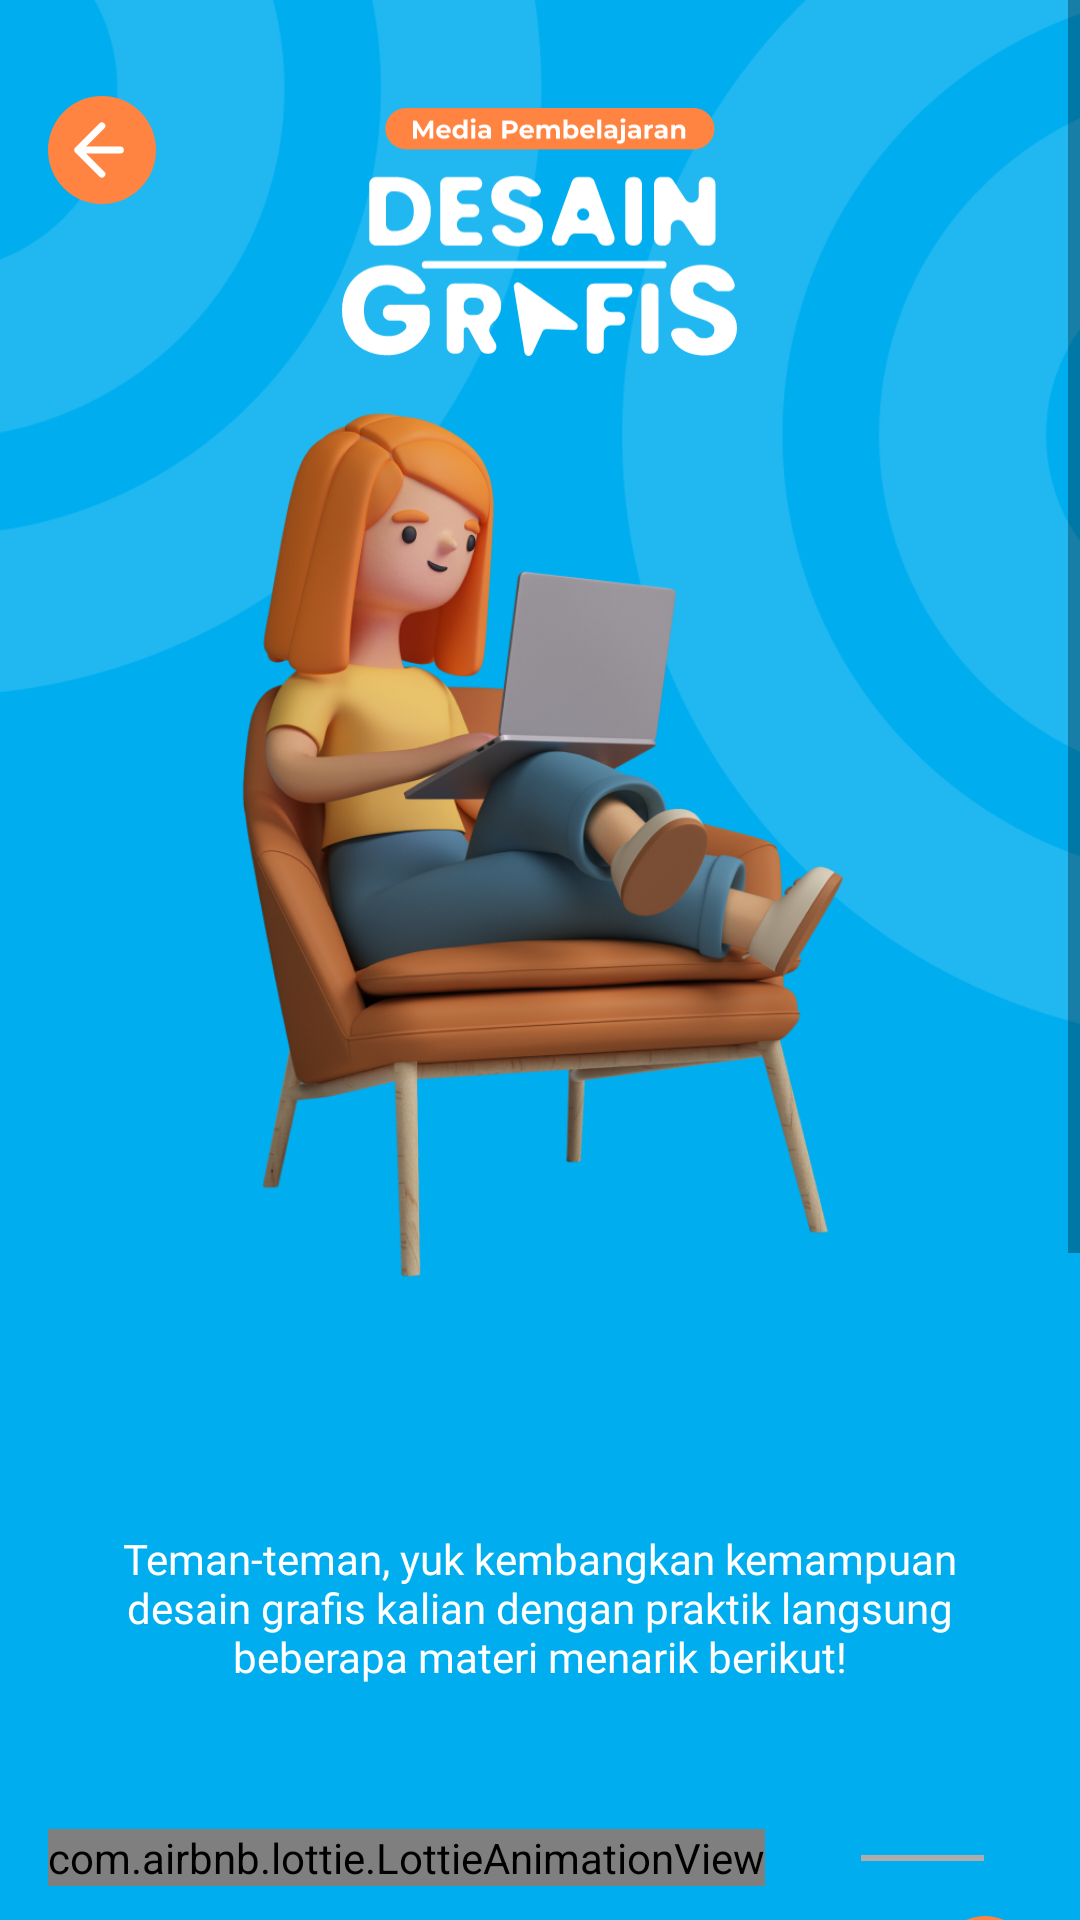

Screen size 1080w x 1920h. Icon name, then its center in pixels as (x,y):
back: (102,150)
